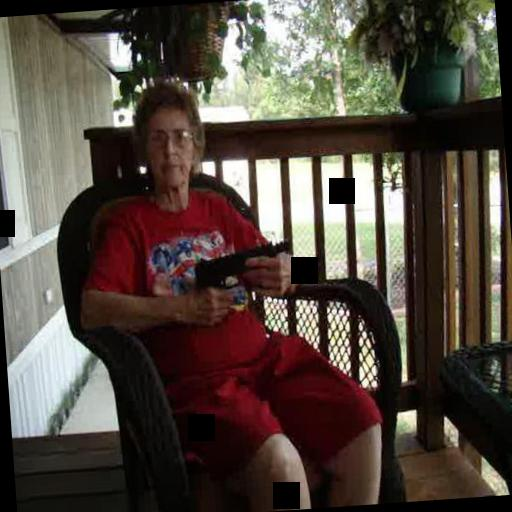Handgun: (183, 232, 296, 304)
